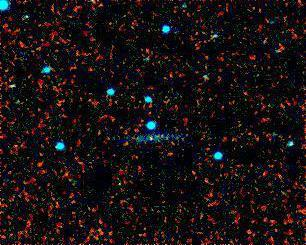star: (134, 125, 164, 155)
